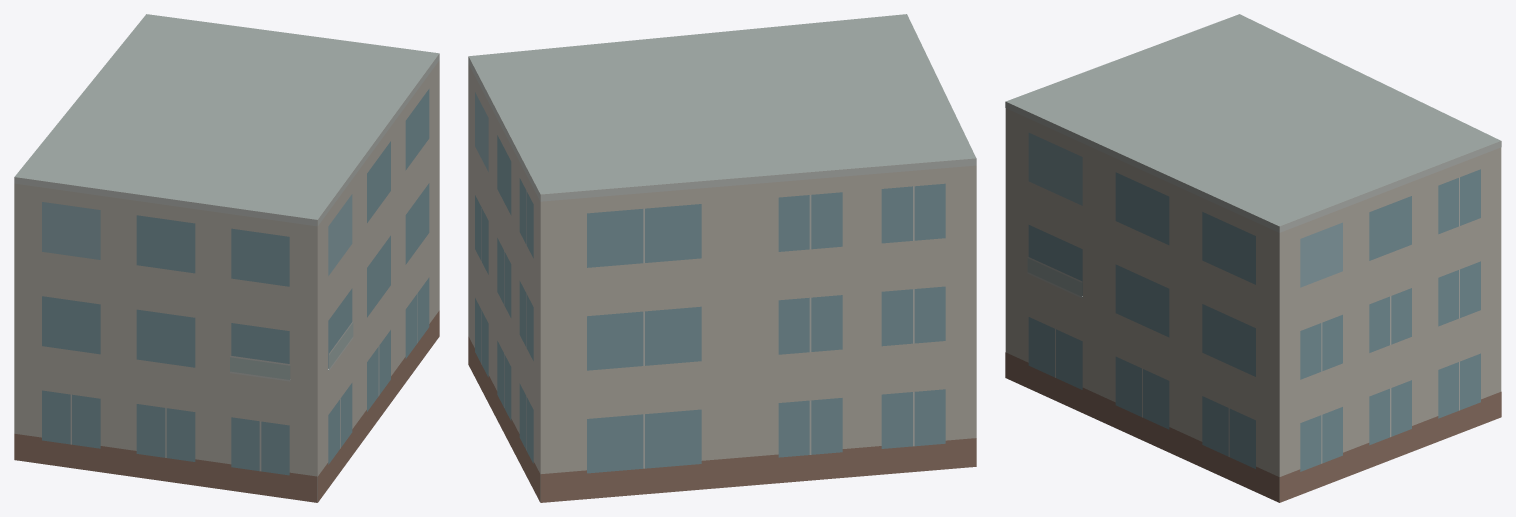
Rendered from survey-upis-32836346.glb.
The picture shows the model from 3 angles, left to right: view 1: azimuth 30°, elevation 25°; view 2: azimuth 150°, elevation 25°; view 3: azimuth 270°, elevation 25°; orthographic projection. The views are drawn at different scales.
Parts seen in each view (by area): view 1: survey-upis-32836346.tmp; view 2: survey-upis-32836346.tmp; view 3: survey-upis-32836346.tmp.
Boxes of the visible parts, x1,y1,x2,y2 form: survey-upis-32836346.tmp: (14,14,439,502); survey-upis-32836346.tmp: (468,14,976,502); survey-upis-32836346.tmp: (1005,14,1501,502).
Size of the model in its own units: 17.32 by 10.5 by 17.08.
